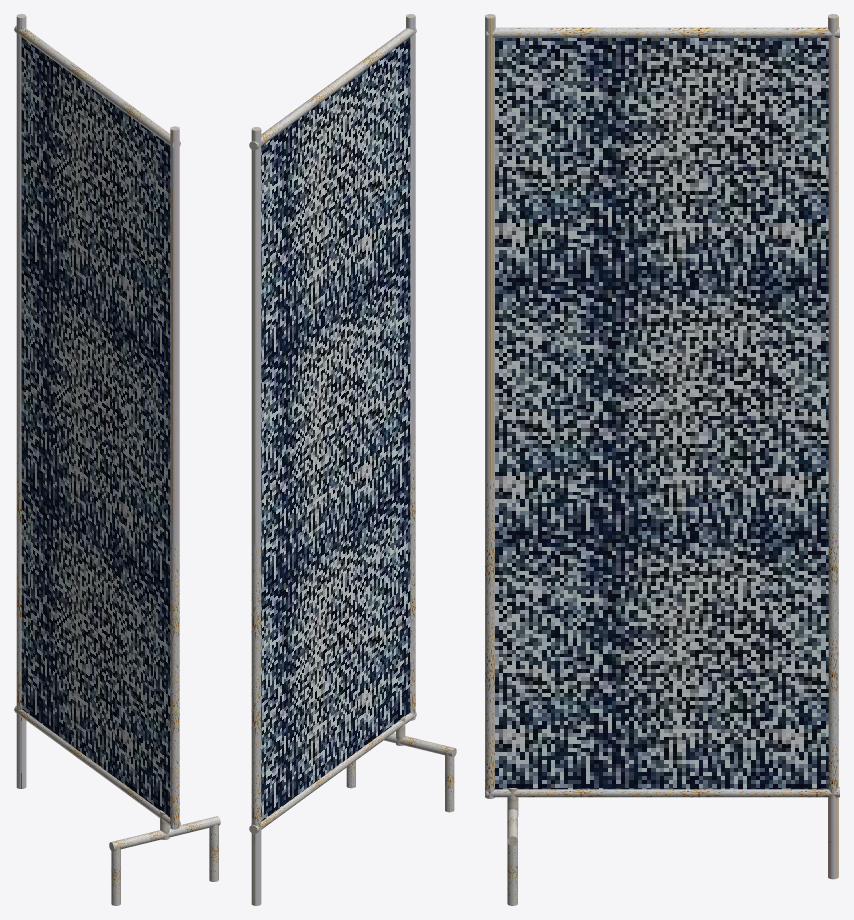
The model's file is shirma.glb.
The picture shows the model from 3 angles, left to right: view 1: azimuth 30°, elevation 25°; view 2: azimuth 150°, elevation 25°; view 3: azimuth 270°, elevation 25°; orthographic projection. The views are drawn at different scales.
Parts seen in each view (by area): view 1: Куб, Цилиндр; view 2: Куб, Цилиндр; view 3: Куб, Цилиндр.
Part boxes in pixels (left/top/right/bottom): Куб: left=21, top=37, right=170, bottom=817; Цилиндр: left=14, top=14, right=220, bottom=905; Куб: left=261, top=37, right=410, bottom=821; Цилиндр: left=249, top=14, right=456, bottom=905; Куб: left=495, top=38, right=828, bottom=789; Цилиндр: left=485, top=14, right=839, bottom=905.
Size of the model in its own units: 0.3951 by 2.73 by 1.02.
2 materials, 2 textured.
